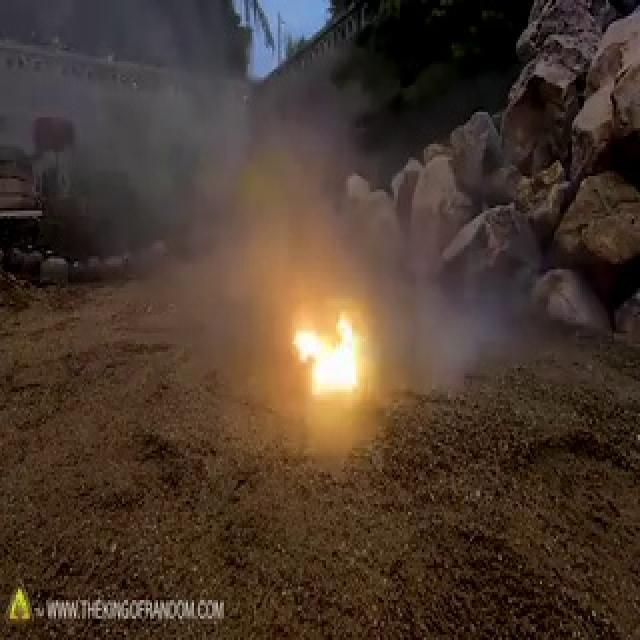Fire: (289, 322, 371, 406)
